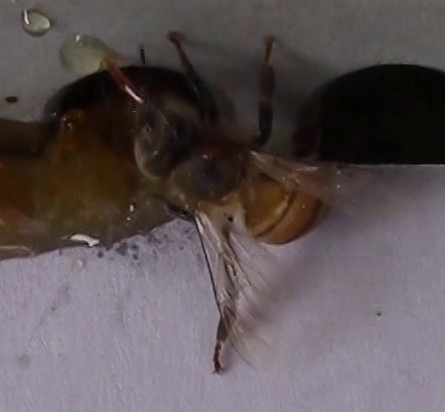Varroa destructor: (196, 132, 229, 160)
